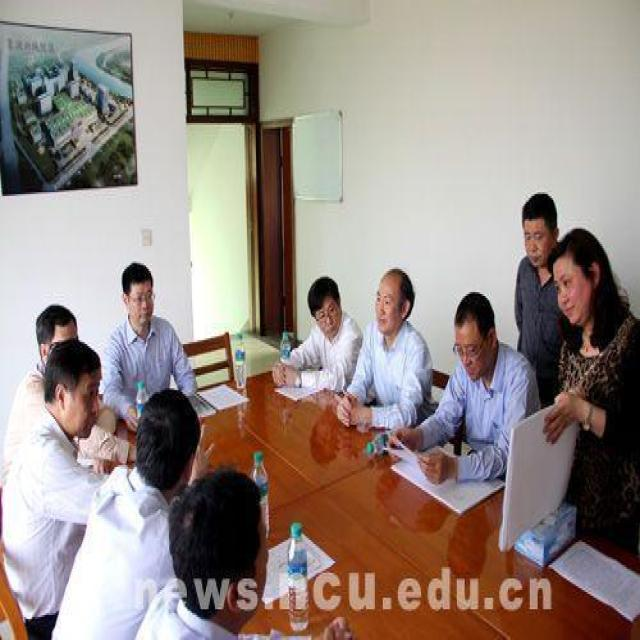no-helmet: (170, 463, 276, 613), (549, 221, 613, 338), (136, 384, 202, 496), (37, 336, 101, 442), (448, 288, 499, 384), (518, 188, 560, 275), (372, 265, 416, 338), (34, 298, 80, 367), (118, 256, 158, 334), (303, 275, 343, 338)
